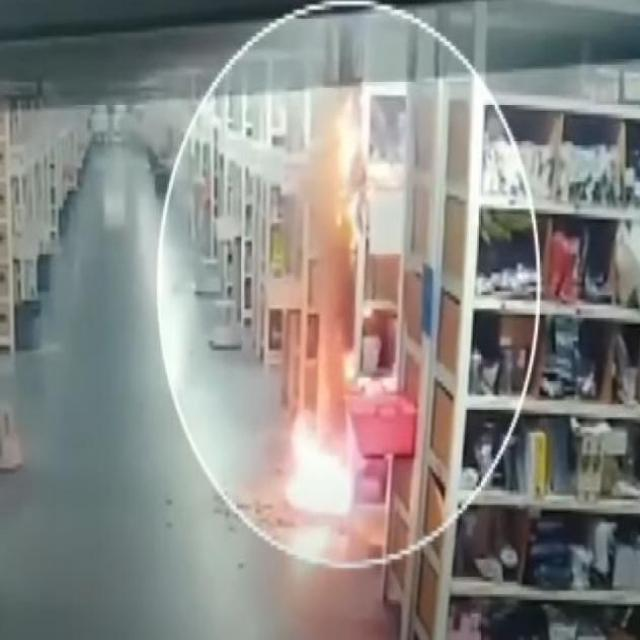Fire: (286, 412, 352, 516), (334, 92, 362, 184), (348, 188, 361, 256)
